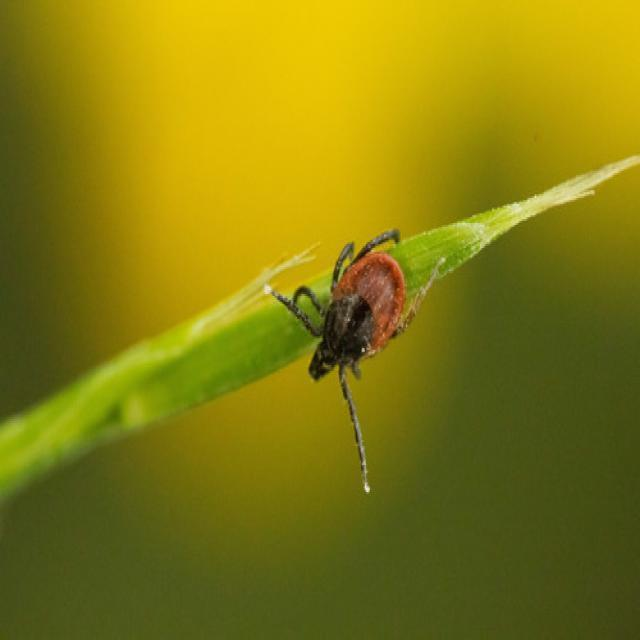Ixodes Ricinus-F: (262, 231, 444, 494)
